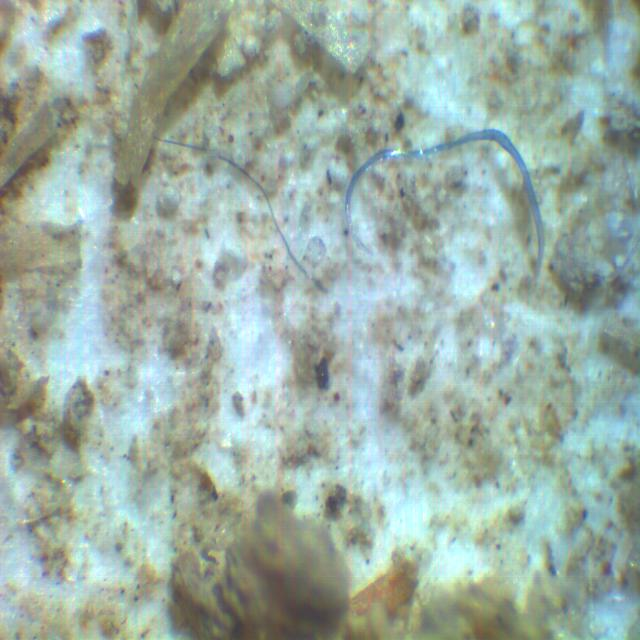microplastic: (334, 104, 567, 289), (152, 109, 335, 279)
